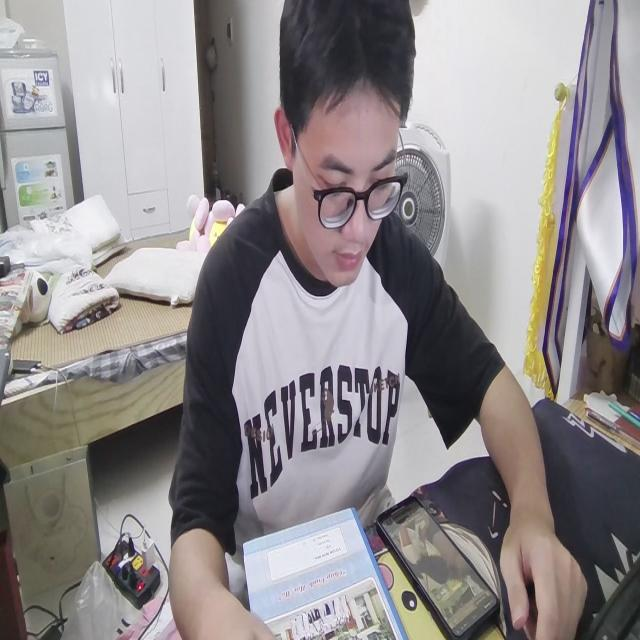book: (238, 504, 412, 640)
phone: (382, 486, 500, 640)
student: (169, 0, 589, 640)
